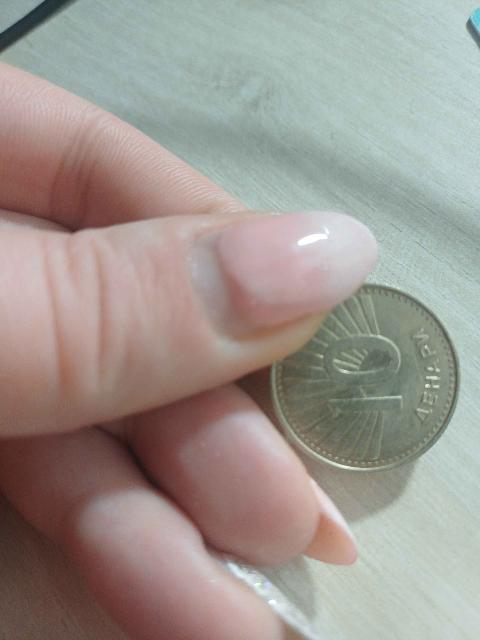10_coin: (272, 285, 459, 470)
